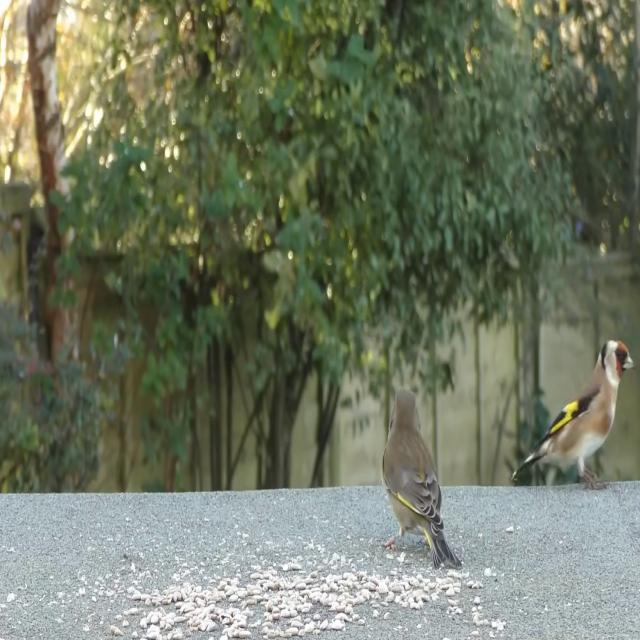beak: (623, 347, 636, 372)
bird: (515, 336, 636, 498), (383, 382, 463, 575)
